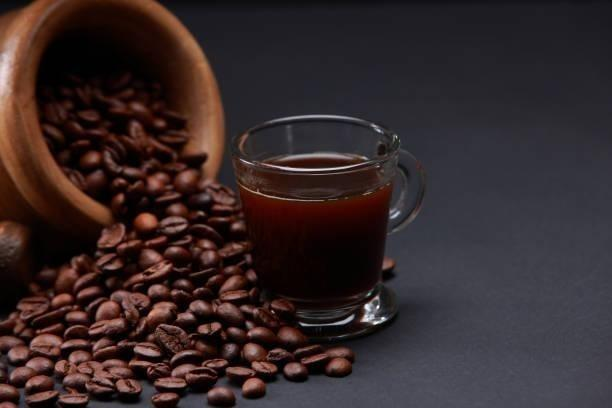glass-mug: (228, 111, 428, 341)
